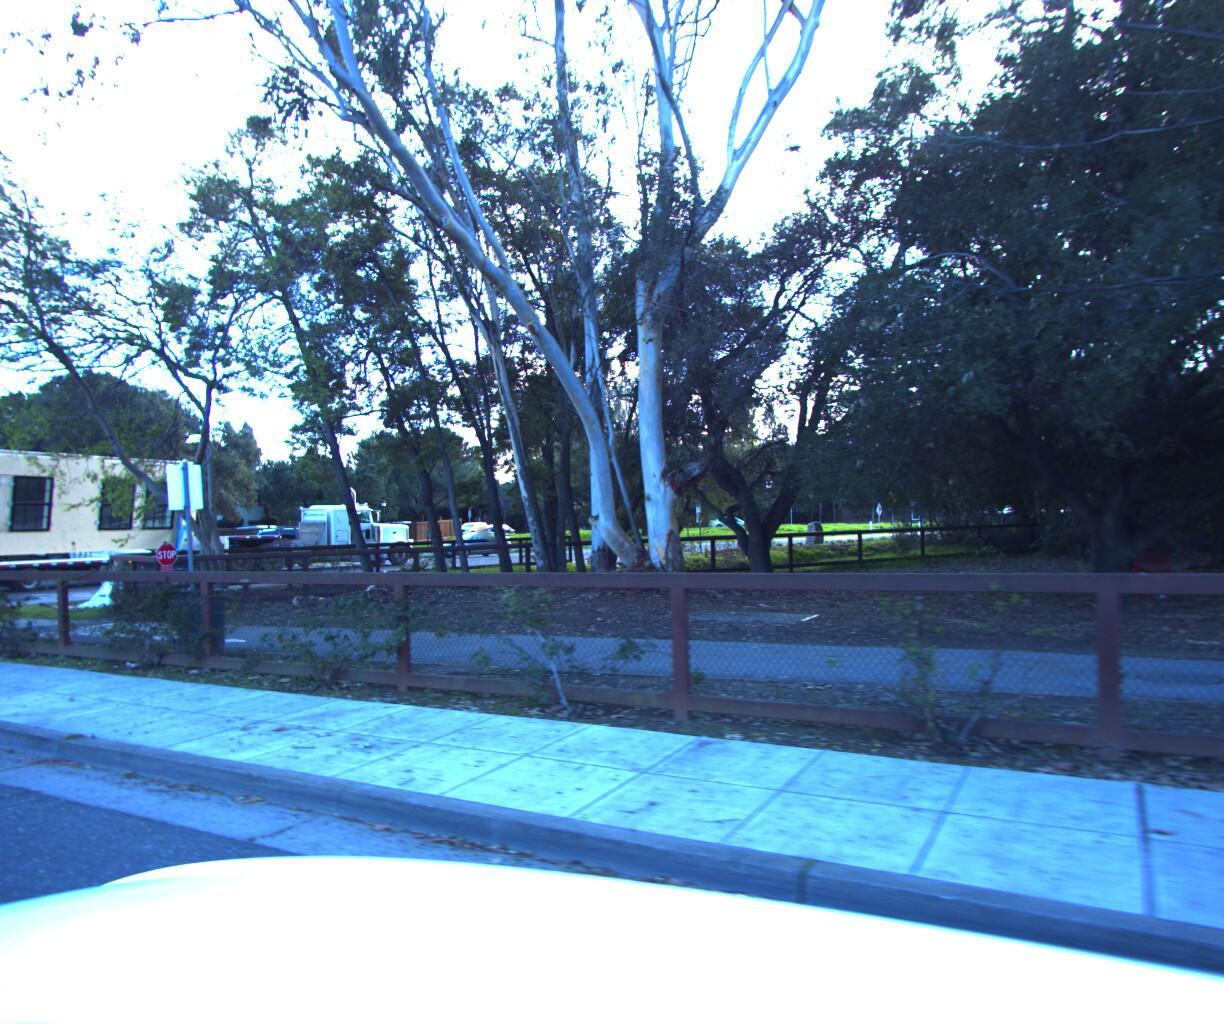car: (22, 522, 168, 577)
other_vehicle: (0, 421, 328, 596)
truck: (267, 496, 420, 566), (0, 503, 32, 595)
